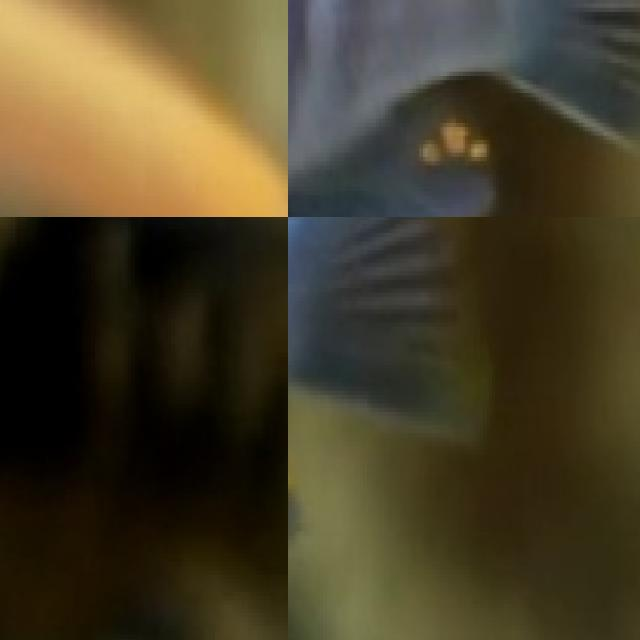fish: (288, 217, 480, 640), (0, 0, 288, 217)
